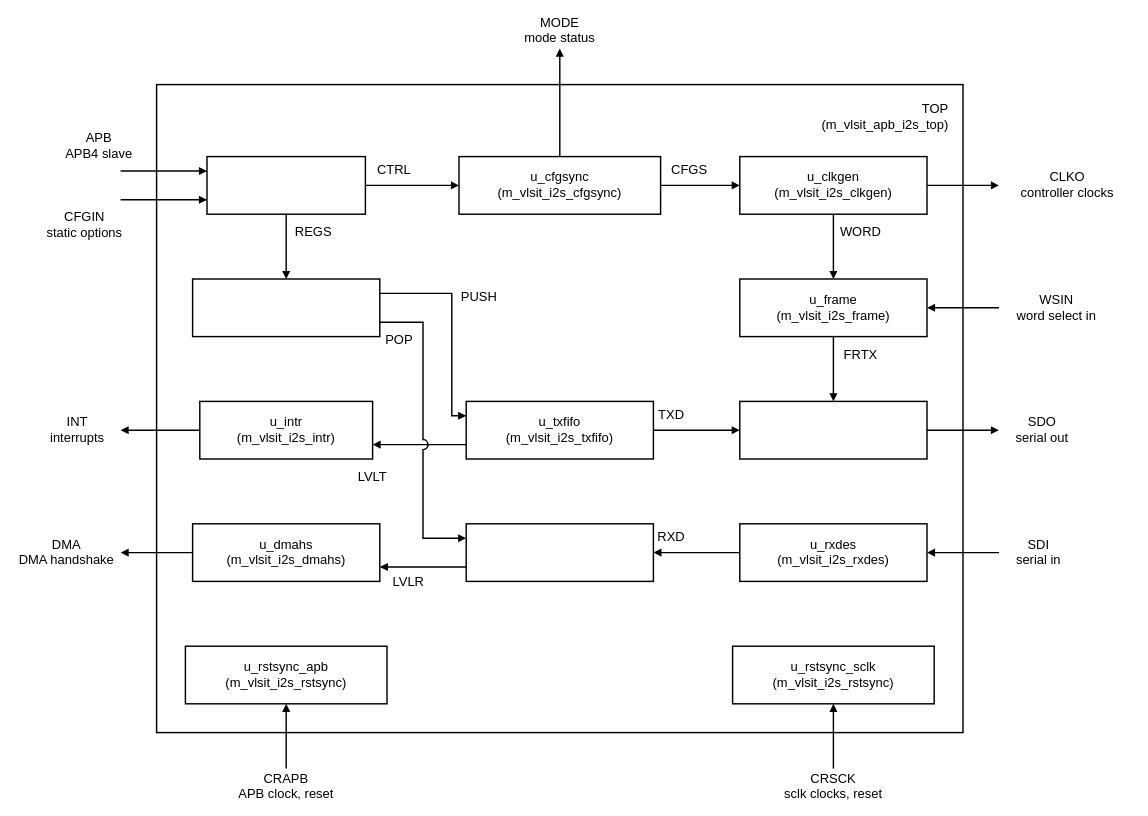
The diagram is 1148 pixels wide and 816 high, and some of its shapes have lost their labels. Here are the shapes that lost their labels. From the top down, the box of each, then its label:
(206, 156, 366, 215): u_csr_i2s (m_vlsit_csr_i2s)
(192, 278, 380, 337): u_regctl (m_vlsit_i2s_regctl)
(739, 400, 927, 459): u_txser (m_vlsit_i2s_txser)
(465, 523, 654, 582): u_rxfifo (m_vlsit_i2s_rxfifo)
